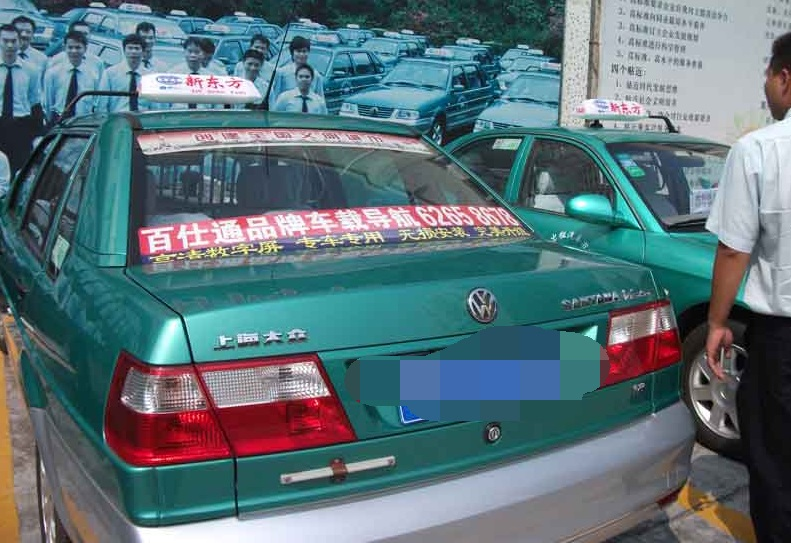taxi: (11, 72, 700, 543)
